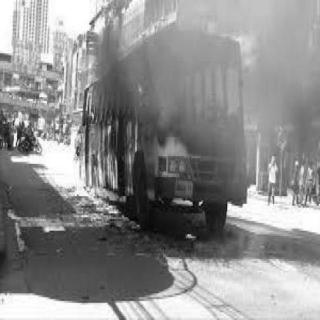Fire: (80, 178, 122, 204)
Smoke: (95, 20, 262, 114)
